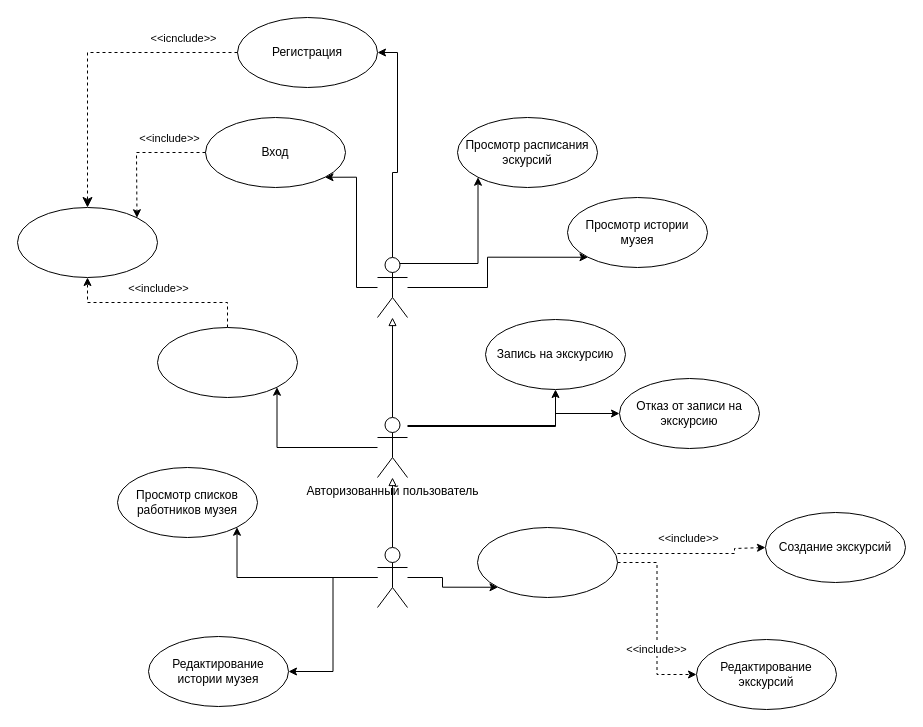
The diagram is 923 pixels wide and 727 high, and some of its shapes have lost their labels. The centre of each missing label's shape, as x and y in pixels:
Настройка профиля: point 227,362
Пользователь: point 392,287
Проверка номера телефона: point 87,242
Работа с экскурсиями: point 547,562
Работник музея: point 392,577
